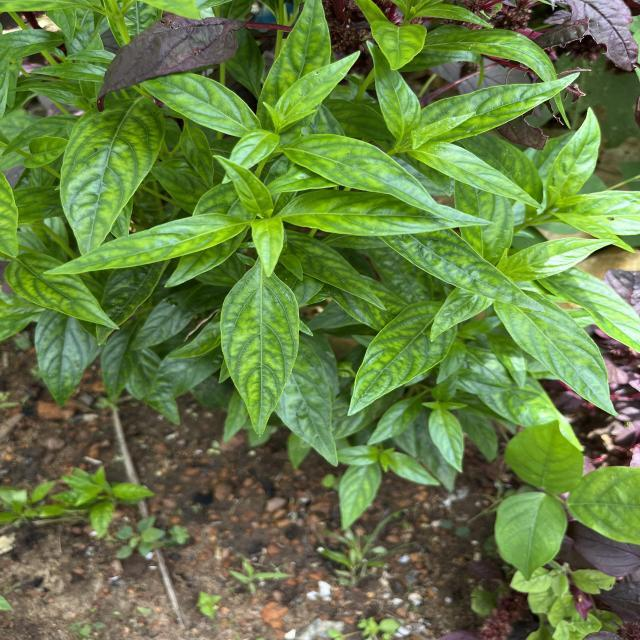Andrographis paniculata: (57, 95, 168, 258), (492, 291, 622, 418), (279, 132, 453, 222), (218, 264, 302, 440), (378, 227, 548, 313), (346, 298, 458, 418), (42, 210, 242, 274), (422, 70, 583, 146), (284, 190, 496, 238), (3, 250, 124, 333), (414, 142, 546, 210), (284, 235, 390, 312), (140, 72, 262, 136), (271, 49, 364, 128), (544, 106, 602, 200), (369, 18, 427, 72)
